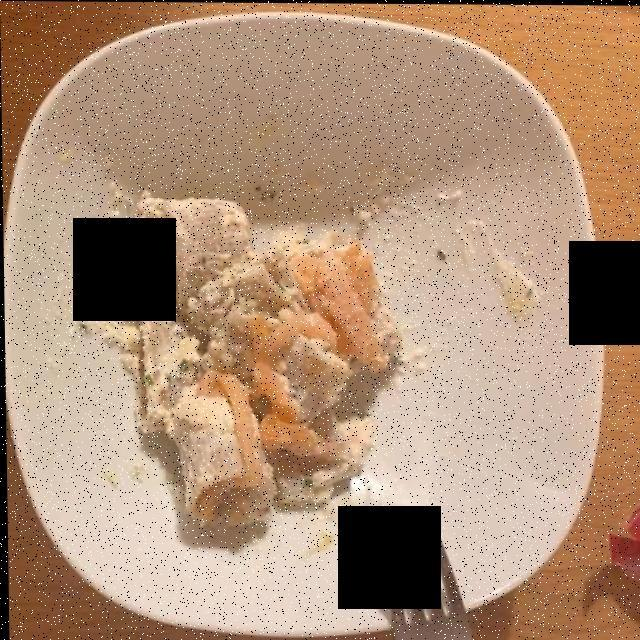pasta: (105, 171, 361, 522)
salmon: (211, 239, 399, 516)
sour-cream: (84, 149, 542, 469)
